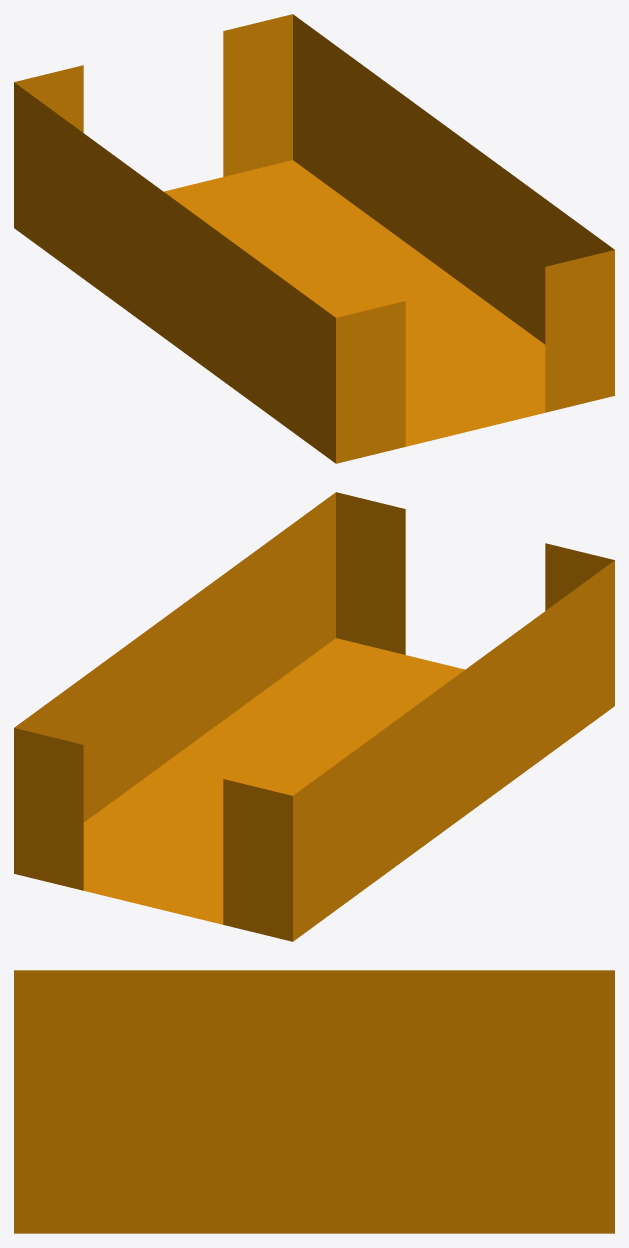
File: thickhallway_0.glb
3 renders of one model, top to bottom at view 1: azimuth 30°, elevation 25°; view 2: azimuth 150°, elevation 25°; view 3: azimuth 270°, elevation 25°, orthographic. The views are drawn at different scales.
Visible parts, largest first — view 1: thickhallway_0; view 2: thickhallway_0; view 3: thickhallway_0.
Part boxes in pixels (box(x1,y1,x2,y2)): thickhallway_0: box(14, 14, 614, 463); thickhallway_0: box(14, 492, 614, 941); thickhallway_0: box(14, 970, 614, 1233).
Size of the model in its own units: 2 by 1 by 4.
